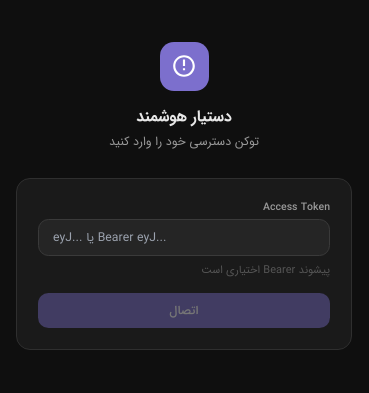
it: TokenForm — token normalization › shows error on 400 response
Type "badtoken12" into the password field with placeholder "eyJ... یا Bearer eyJ..." at [184, 238], box [38,220,330,256]
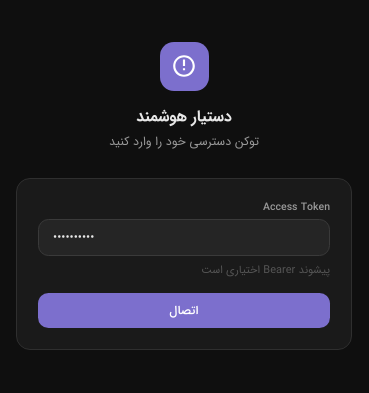
Click the button "اتصال" at [184, 311], box [38,293,330,328]
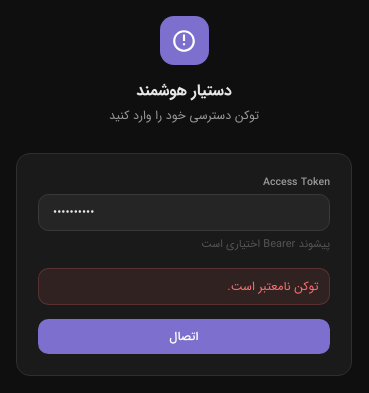
Expected: the text "توکن نامعتبر است." is shown, [38,268,330,305]
